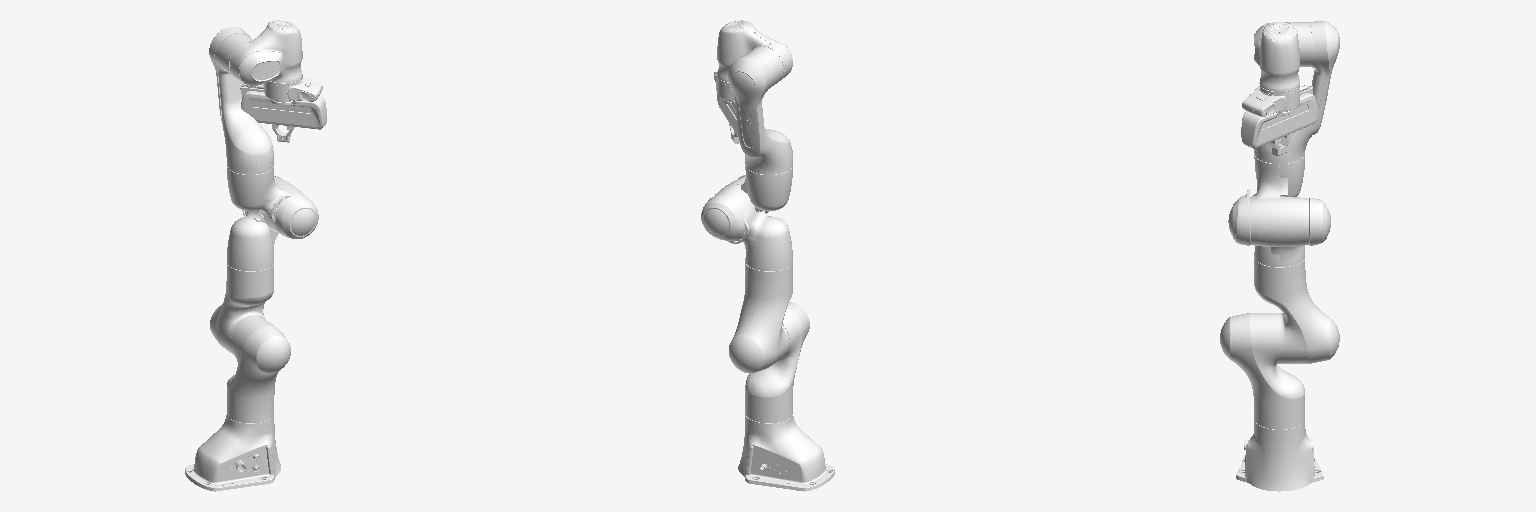
The robot description file, URDF, robot "panda":
<?xml version="1.0" encoding="utf-8"?>
<!-- =================================================================================== -->
<!-- |    This document was autogenerated by xacro from panda.robot.xacro              | -->
<!-- |    EDITING THIS FILE BY HAND IS NOT RECOMMENDED                                 | -->
<!-- =================================================================================== -->
<robot name="panda">
  <!-- This file will be more useful if you end up wanting to put a different EE on the Franka
       or configure the xacro more. All this does right now is add a prefix to the link names. -->
  <!-- ========================================================================================== -->
  <link name="panda_base"/>
  <joint name="panda_base_joint" type="fixed">
    <parent link="panda_base"/>
    <child link="panda_link0"/>
    <origin rpy="0 0 0" xyz="0 0 0"/>
  </joint>
  <link name="panda_link0">
    <inertial>
      <mass value="2.92"/>
      <origin rpy="0 0 0" xyz="-0.025566 -2.88e-05 0.057332"/>
      <inertia ixx="0.00782229414331" ixy="-1.56191622996e-05" ixz="-0.00126005738123" iyy="0.0109027971813" iyz="1.08233858202e-05" izz="0.0102355503949"/>
    </inertial>
    <visual>
      <origin rpy="0 0 0" xyz="0 0 0"/>
      <geometry>
        <mesh filename="package://ll4ma_robots_description/meshes/panda/visual/link0.obj"/>
      </geometry>
      <material name="">
        <color rgba="1 1 1 1"/>
      </material>
    </visual>
    <collision>
      <origin rpy="0 0 0" xyz="0 0 0"/>
      <geometry>
        <mesh filename="package://ll4ma_robots_description/meshes/panda/collision/link0.obj"/>
      </geometry>
    </collision>
  </link>
  <link name="panda_link1">
    <inertial>
      <mass value="2.74"/>
      <origin rpy="0 0 0" xyz="0 -0.0324958 -0.0675818"/>
      <inertia ixx="0.0180416958283" ixy="0.0" ixz="0.0" iyy="0.0159136071891" iyz="0.0046758424612" izz="0.00620690827127"/>
    </inertial>
    <visual>
      <origin rpy="0 0 0" xyz="0 0 0"/>
      <geometry>
        <mesh filename="package://ll4ma_robots_description/meshes/panda/visual/link1.obj"/>
      </geometry>
      <material name="">
        <color rgba="1 1 1 1"/>
      </material>
    </visual>
    <collision>
      <origin rpy="0 0 0" xyz="0 0 0"/>
      <geometry>
        <mesh filename="package://ll4ma_robots_description/meshes/panda/collision/link1.obj"/>
      </geometry>
    </collision>
  </link>
  <joint name="panda_joint1" type="revolute">
    <origin rpy="0 0 0" xyz="0 0 0.333"/>
    <parent link="panda_link0"/>
    <child link="panda_link1"/>
    <axis xyz="0 0 1"/>
    <limit effort="87" lower="-2.8973" upper="2.8973" velocity="2.1750"/>
  </joint>
  <link name="panda_link2">
    <inertial>
      <mass value="2.74"/>
      <origin rpy="0 0 0" xyz="0 -0.06861 0.0322285"/>
      <inertia ixx="0.0182856182281" ixy="0.0" ixz="0.0" iyy="0.00621358421175" iyz="-0.00472844221905" izz="0.0161514346309"/>
    </inertial>
    <visual>
      <origin rpy="0 0 0" xyz="0 0 0"/>
      <geometry>
        <mesh filename="package://ll4ma_robots_description/meshes/panda/visual/link2.obj"/>
      </geometry>
      <material name="">
        <color rgba="1 1 1 1"/>
      </material>
    </visual>
    <collision>
      <origin rpy="0 0 0" xyz="0 0 0"/>
      <geometry>
        <mesh filename="package://ll4ma_robots_description/meshes/panda/collision/link2.obj"/>
      </geometry>
    </collision>
  </link>
  <joint name="panda_joint2" type="revolute">
    <origin rpy="-1.57079632679 0 0" xyz="0 0 0"/>
    <parent link="panda_link1"/>
    <child link="panda_link2"/>
    <axis xyz="0 0 1"/>
    <limit effort="87" lower="-1.7628" upper="1.7628" velocity="2.1750"/>
  </joint>
  <link name="panda_link3">
    <inertial>
      <mass value="2.38"/>
      <origin rpy="0 0 0" xyz="0.0469893 0.0316374 -0.031704"/>
      <inertia ixx="0.00771376630908" ixy="-0.00248490625138" ixz="-0.00332147581033" iyy="0.00989108008727" iyz="-0.00217796151484" izz="0.00811723558464"/>
    </inertial>
    <visual>
      <origin rpy="0 0 0" xyz="0 0 0"/>
      <geometry>
        <mesh filename="package://ll4ma_robots_description/meshes/panda/visual/link3.obj"/>
      </geometry>
      <material name="">
        <color rgba="1 1 1 1"/>
      </material>
    </visual>
    <collision>
      <origin rpy="0 0 0" xyz="0 0 0"/>
      <geometry>
        <mesh filename="package://ll4ma_robots_description/meshes/panda/collision/link3.obj"/>
      </geometry>
    </collision>
  </link>
  <joint name="panda_joint3" type="revolute">
    <origin rpy="1.57079632679 0 0" xyz="0 -0.316 0"/>
    <parent link="panda_link2"/>
    <child link="panda_link3"/>
    <axis xyz="0 0 1"/>
    <limit effort="87" lower="-2.8973" upper="2.8973" velocity="2.1750"/>
  </joint>
  <link name="panda_link4">
    <inertial>
      <mass value="2.38"/>
      <origin rpy="0 0 0" xyz="-0.0360446 0.0336853 0.031882"/>
      <inertia ixx="0.00799663881132" ixy="0.00347095570217" ixz="-0.00241222942995" iyy="0.00825390705278" iyz="0.00235774044121" izz="0.0102515004345"/>
    </inertial>
    <visual>
      <origin rpy="0 0 0" xyz="0 0 0"/>
      <geometry>
        <mesh filename="package://ll4ma_robots_description/meshes/panda/visual/link4.obj"/>
      </geometry>
      <material name="">
        <color rgba="1 1 1 1"/>
      </material>
    </visual>
    <collision>
      <origin rpy="0 0 0" xyz="0 0 0"/>
      <geometry>
        <mesh filename="package://ll4ma_robots_description/meshes/panda/collision/link4.obj"/>
      </geometry>
    </collision>
  </link>
  <joint name="panda_joint4" type="revolute">
    <origin rpy="1.57079632679 0 0" xyz="0.0825 0 0"/>
    <parent link="panda_link3"/>
    <child link="panda_link4"/>
    <axis xyz="0 0 1"/>
    <limit effort="87" lower="-3.0718" upper="0.0698" velocity="2.1750"/>
    <!-- upper should be -0.0698, but breaks simulation when initial position is 0.0 -->
  </joint>
  <link name="panda_link5">
    <inertial>
      <mass value="2.74"/>
      <origin rpy="0 0 0" xyz="0 0.0610427 -0.104176"/>
      <inertia ixx="0.030371374513" ixy="6.50283587108e-07" ixz="-1.05129179916e-05" iyy="0.0288752887402" iyz="-0.00775653445787" izz="0.00444134056164"/>
    </inertial>
    <visual>
      <origin rpy="0 0 0" xyz="0 0 0"/>
      <geometry>
        <mesh filename="package://ll4ma_robots_description/meshes/panda/visual/link5.obj"/>
      </geometry>
      <material name="">
        <color rgba="1 1 1 1"/>
      </material>
    </visual>
    <collision>
      <origin rpy="0 0 0" xyz="0 0 0"/>
      <geometry>
        <mesh filename="package://ll4ma_robots_description/meshes/panda/collision/link5.obj"/>
      </geometry>
    </collision>
  </link>
  <joint name="panda_joint5" type="revolute">
    <origin rpy="-1.57079632679 0 0" xyz="-0.0825 0.384 0"/>
    <parent link="panda_link4"/>
    <child link="panda_link5"/>
    <axis xyz="0 0 1"/>
    <limit effort="12" lower="-2.8973" upper="2.8973" velocity="2.6100"/>
  </joint>
  <link name="panda_link6">
    <inertial>
      <mass value="1.55"/>
      <origin rpy="0 0 0" xyz="0.0510509 0.009108 0.0106343"/>
      <inertia ixx="0.00303336450376" ixy="-0.000437276865508" ixz="0.000629257294877" iyy="0.00404479911567" iyz="0.000130472021025" izz="0.00558234286039"/>
    </inertial>
    <visual>
      <origin rpy="0 0 0" xyz="0 0 0"/>
      <geometry>
        <mesh filename="package://ll4ma_robots_description/meshes/panda/visual/link6.obj"/>
      </geometry>
      <material name="">
        <color rgba="1 1 1 1"/>
      </material>
    </visual>
    <collision>
      <origin rpy="0 0 0" xyz="0 0 0"/>
      <geometry>
        <mesh filename="package://ll4ma_robots_description/meshes/panda/collision/link6.obj"/>
      </geometry>
    </collision>
  </link>
  <joint name="panda_joint6" type="revolute">
    <origin rpy="1.57079632679 0 0" xyz="0 0 0"/>
    <parent link="panda_link5"/>
    <child link="panda_link6"/>
    <axis xyz="0 0 1"/>
    <limit effort="12" lower="-0.0175" upper="3.7525" velocity="2.6100"/>
  </joint>
  <link name="panda_link7">
    <inertial>
      <mass value="0.54"/>
      <origin rpy="0 0 0" xyz="0.0109695 0.0107965 0.0650411"/>
      <inertia ixx="0.000888868887021" ixy="-0.00012239074652" ixz="3.98699829666e-05" iyy="0.000888001373233" iyz="-9.33825115206e-05" izz="0.0007176834609"/>
    </inertial>
    <visual>
      <origin rpy="0 0 0" xyz="0 0 0"/>
      <geometry>
        <mesh filename="package://ll4ma_robots_description/meshes/panda/visual/link7.obj"/>
      </geometry>
      <material name="">
        <color rgba="1 1 1 1"/>
      </material>
    </visual>
    <collision>
      <origin rpy="0 0 0" xyz="0 0 0"/>
      <geometry>
        <mesh filename="package://ll4ma_robots_description/meshes/panda/collision/link7.obj"/>
      </geometry>
    </collision>
  </link>
  <joint name="panda_joint7" type="revolute">
    <origin rpy="1.57079632679 0 0" xyz="0.088 0 0"/>
    <parent link="panda_link6"/>
    <child link="panda_link7"/>
    <axis xyz="0 0 1"/>
    <limit effort="12" lower="-2.8973" upper="2.8973" velocity="2.6100"/>
  </joint>
  <link name="panda_link8"/>
  <joint name="panda_joint8" type="fixed">
    <origin rpy="0 0 0" xyz="0 0 0.107"/>
    <parent link="panda_link7"/>
    <child link="panda_link8"/>
    <axis xyz="0 0 0"/>
  </joint>
  <joint name="panda_hand_joint" type="fixed">
    <parent link="panda_link8"/>
    <child link="panda_hand"/>
    <origin rpy="0 0 -0.785398163397" xyz="0 0 0"/>
  </joint>
  <link name="panda_hand">
    <inertial>
      <mass value="0.73"/>
      <origin rpy="0 0 0" xyz="0 0.0015244 0.0275912"/>
      <inertia ixx="0.00278560230025" ixy="0.0" ixz="0.0" iyy="0.000400033405336" iyz="0.0" izz="0.00256378041832"/>
    </inertial>
    <visual>
      <origin rpy="0 0 0" xyz="0 0 0"/>
      <geometry>
        <mesh filename="package://ll4ma_robots_description/meshes/panda/visual/hand.obj"/>
      </geometry>
      <material name="">
        <color rgba="1 1 1 1"/>
      </material>
    </visual>
    <collision>
      <origin rpy="0 0 0" xyz="0 0 0"/>
      <geometry>
        <mesh filename="package://ll4ma_robots_description/meshes/panda/collision/hand.obj"/>
      </geometry>
    </collision>
  </link>
  <link name="panda_leftfinger">
    <inertial>
      <mass value="0.1"/>
      <origin rpy="0 0 0" xyz="0 0.0145644 0.0227941"/>
      <inertia ixx="3.01220925051e-05" ixy="0.0" ixz="0.0" iyy="2.95873808038e-05" iyz="0.0" izz="6.95125211657e-06"/>
    </inertial>
    <visual>
      <origin rpy="0 0 0" xyz="0 0 0"/>
      <geometry>
        <mesh filename="package://ll4ma_robots_description/meshes/panda/visual/finger.obj"/>
      </geometry>
      <material name="">
        <color rgba="1 1 1 1"/>
      </material>
    </visual>
    <collision>
      <origin rpy="0 0 0" xyz="0 0 0"/>
      <geometry>
        <mesh filename="package://ll4ma_robots_description/meshes/panda/collision/finger.obj"/>
      </geometry>
    </collision>
  </link>
  <link name="panda_rightfinger">
    <inertial>
      <mass value="0.1"/>
      <origin rpy="0 0 3.14159265359" xyz="0 0.0145644 0.0227941"/>
      <inertia ixx="3.01220925051e-05" ixy="0.0" ixz="0.0" iyy="2.95873808038e-05" iyz="0.0" izz="6.95125211657e-06"/>
    </inertial>
    <visual>
      <origin rpy="0 0 3.14159265359" xyz="0 0 0"/>
      <geometry>
        <mesh filename="package://ll4ma_robots_description/meshes/panda/visual/finger.obj"/>
      </geometry>
      <material name="">
        <color rgba="1 1 1 1"/>
      </material>
    </visual>
    <collision>
      <origin rpy="0 0 3.14159265359" xyz="0 0 0"/>
      <geometry>
        <mesh filename="package://ll4ma_robots_description/meshes/panda/collision/finger.obj"/>
      </geometry>
    </collision>
  </link>
  <joint name="panda_finger_joint1" type="prismatic">
    <parent link="panda_hand"/>
    <child link="panda_leftfinger"/>
    <origin rpy="0 0 0" xyz="0 0 0.0584"/>
    <axis xyz="0 1 0"/>
    <limit effort="20" lower="-0.001" upper="0.04" velocity="0.3"/>
  </joint>
  <joint name="panda_finger_joint2" type="prismatic">
    <parent link="panda_hand"/>
    <child link="panda_rightfinger"/>
    <origin rpy="0 0 0" xyz="0 0 0.0584"/>
    <axis xyz="0 -1 0"/>
    <limit effort="20" lower="-0.001" upper="0.04" velocity="0.3"/>
  </joint>
  <link name="end_effector_frame">
    <inertial>
      <!-- Dummy inertial parameters to avoid link lumping-->
      <mass value="0.01"/>
      <inertia ixx="0.0001" ixy="0.0" ixz="0.0" iyy="0.0001" iyz="0.0" izz="0.0001"/>
    </inertial>
  </link>
  <joint name="end_effector_frame_fixed_joint" type="fixed">
    <origin rpy="3.14159 -1.57079 -0.785398163397" xyz="0 0 0.21"/>
    <parent link="panda_link7"/>
    <child link="end_effector_frame"/>
  </joint>
  <gazebo reference="end_effector_frame_fixed_joint">
    <preserveFixedJoint>true</preserveFixedJoint>
    <!-- For compatibility with SDFormat < 4.4 -->
    <disableFixedJointLumping>true</disableFixedJointLumping>
  </gazebo>
</robot>

--- What the picture shows (computed from the rendered views, not written in the file) ---
Views: 3 orthographic renders of the robot side by side, from view 1: azimuth 30°, elevation 25°; view 2: azimuth 150°, elevation 25°; view 3: azimuth 270°, elevation 25°.
Robot: panda — 14 links, 13 joints (7 revolute, 2 prismatic, 4 fixed); root link panda_base; default pose: all joints at 0.
Visible links, largest first — view 1: panda_link0, panda_link1, panda_link5, panda_link4, panda_link6, panda_link2, panda_link3, panda_hand, panda_link7; view 2: panda_link0, panda_link5, panda_link2, panda_link3, panda_link1, panda_link6, panda_link4; view 3: panda_link1, panda_link2, panda_link0, panda_link4, panda_link5, panda_link3, panda_link6, panda_hand, panda_link7.
Link boxes in pixels (left/top/right/bottom): panda_link0: left=185, top=415, right=280, bottom=491; panda_link1: left=227, top=316, right=290, bottom=422; panda_link5: left=209, top=27, right=273, bottom=174; panda_link4: left=227, top=167, right=318, bottom=238; panda_link6: left=230, top=20, right=302, bottom=85; panda_link2: left=210, top=264, right=273, bottom=355; panda_link3: left=227, top=175, right=291, bottom=270; panda_hand: left=240, top=84, right=326, bottom=129; panda_link7: left=262, top=76, right=322, bottom=102; panda_link0: left=738, top=414, right=834, bottom=491; panda_link5: left=728, top=46, right=792, bottom=174; panda_link2: left=729, top=262, right=792, bottom=373; panda_link3: left=701, top=184, right=792, bottom=270; panda_link1: left=745, top=302, right=809, bottom=422; panda_link6: left=717, top=20, right=792, bottom=81; panda_link4: left=726, top=165, right=792, bottom=213; panda_link1: left=1220, top=313, right=1304, bottom=429; panda_link2: left=1254, top=257, right=1339, bottom=363; panda_link0: left=1236, top=420, right=1323, bottom=491; panda_link4: left=1228, top=154, right=1304, bottom=246; panda_link5: left=1254, top=21, right=1339, bottom=163; panda_link3: left=1254, top=196, right=1330, bottom=266; panda_link6: left=1254, top=22, right=1299, bottom=91; panda_hand: left=1241, top=84, right=1317, bottom=148; panda_link7: left=1242, top=83, right=1299, bottom=116.
Size in the robot's own frame: 0.3253 by 0.2593 by 1.11 metres.
Meshes: 10 distinct files referenced, 11 mesh visuals loaded (10 OBJ).